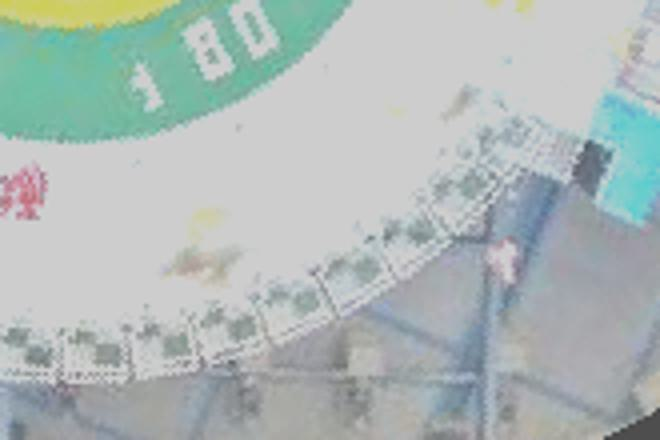Apron: (1, 1, 203, 48)
